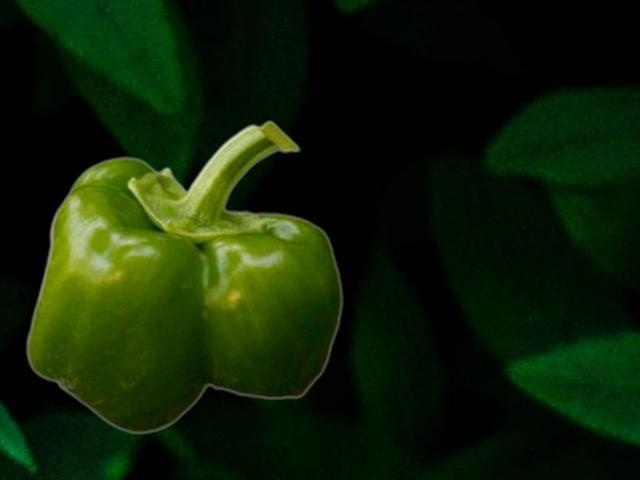bell_pepper: (25, 120, 342, 434)
